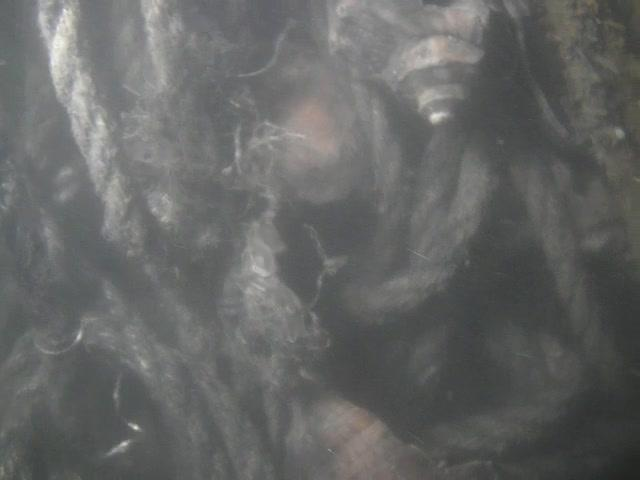bundle of ropes: (0, 0, 607, 480)
